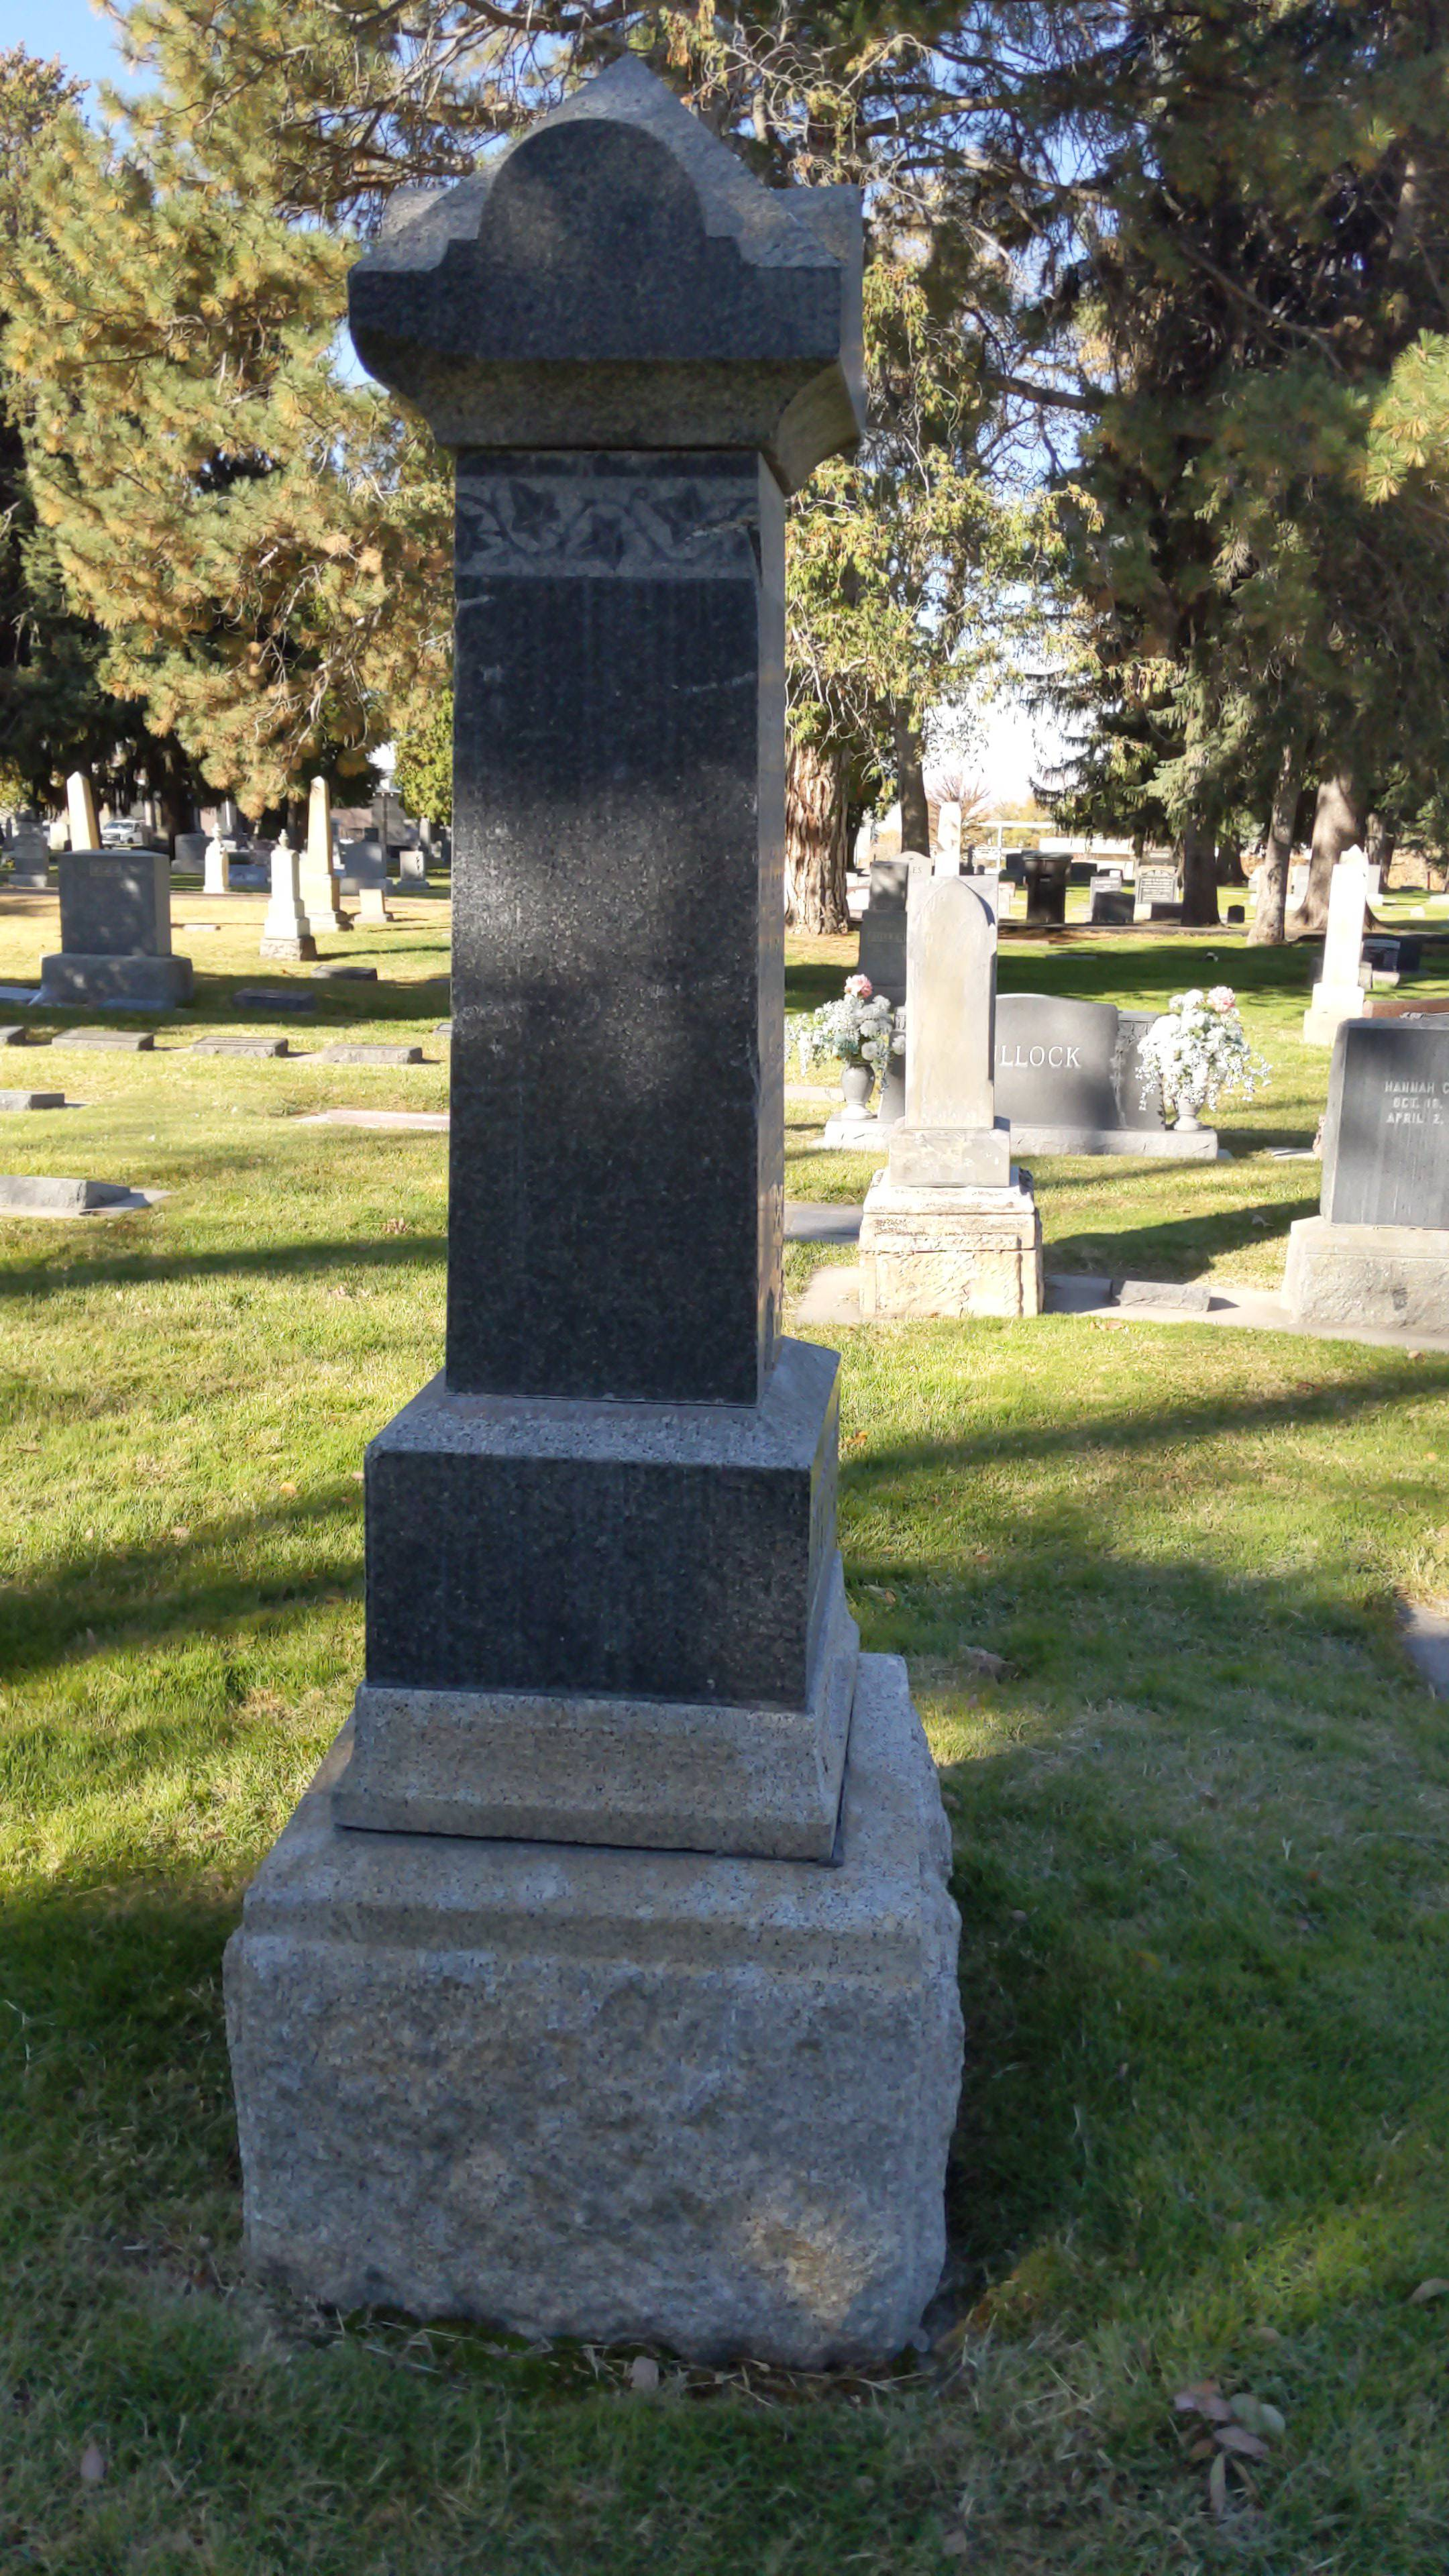obelisk: (347, 83, 855, 1845)
